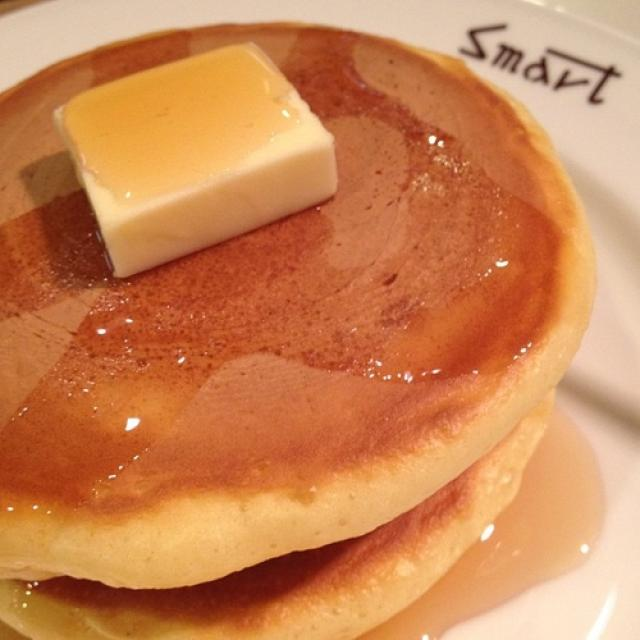面条主食: (12, 123, 628, 510)
